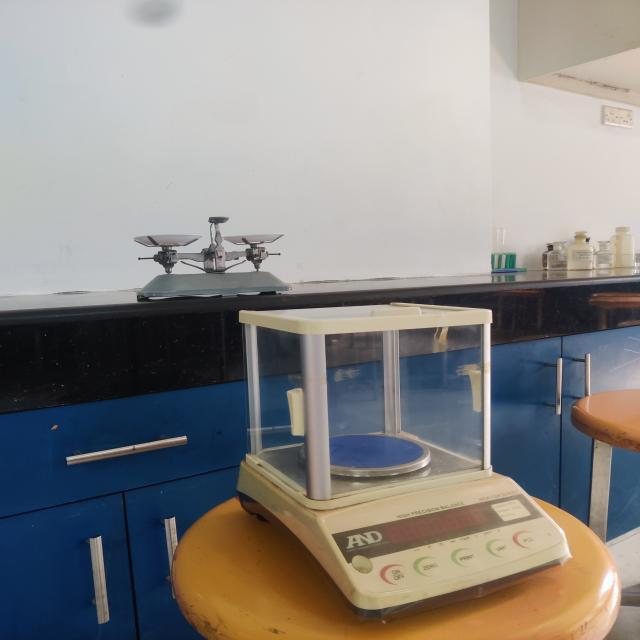Mechanical_Balance_Scale: (114, 210, 303, 306)
Precision_Weight_Scale: (220, 306, 583, 628)
